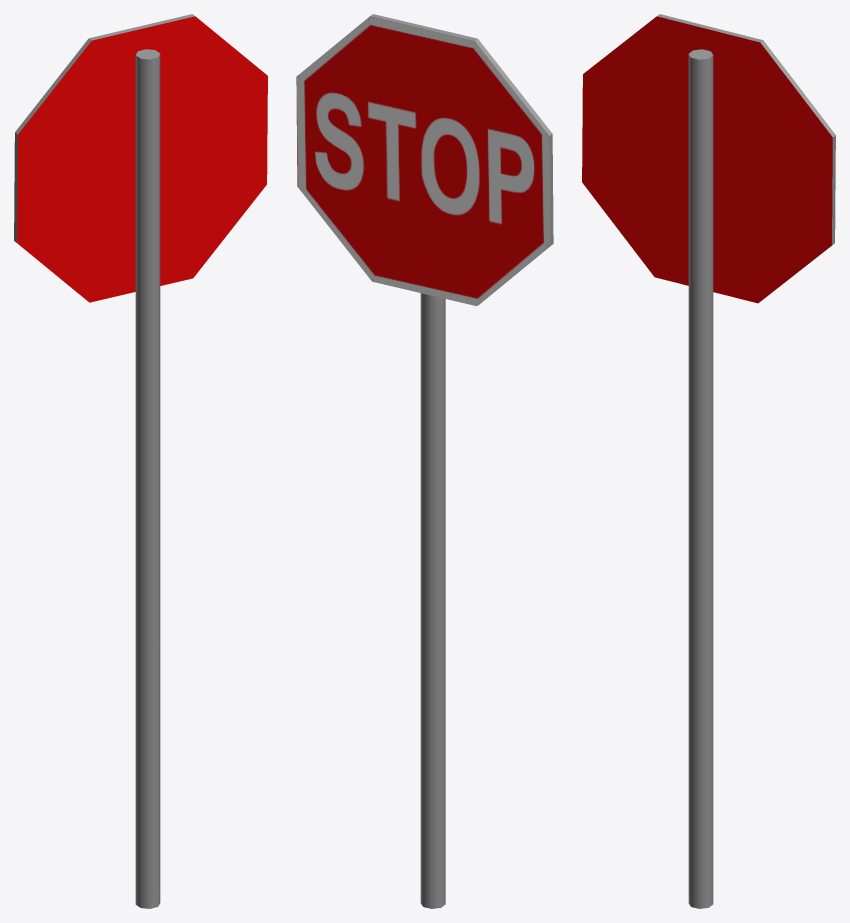
The model's file is Stop_Sign.FBX.
3 views of the same model, side by side, from view 1: azimuth 30°, elevation 25°; view 2: azimuth 150°, elevation 25°; view 3: azimuth 330°, elevation 25° (orthographic).
Parts seen in each view (by area): view 1: Object002; view 2: Object002; view 3: Object002.
Part boxes in pixels (x1,y1,x2,y2): Object002: [14, 14, 267, 908]; Object002: [296, 14, 553, 908]; Object002: [582, 14, 835, 908].
Bounding box in the file's own units: 46.36 × 154 × 4.79.
